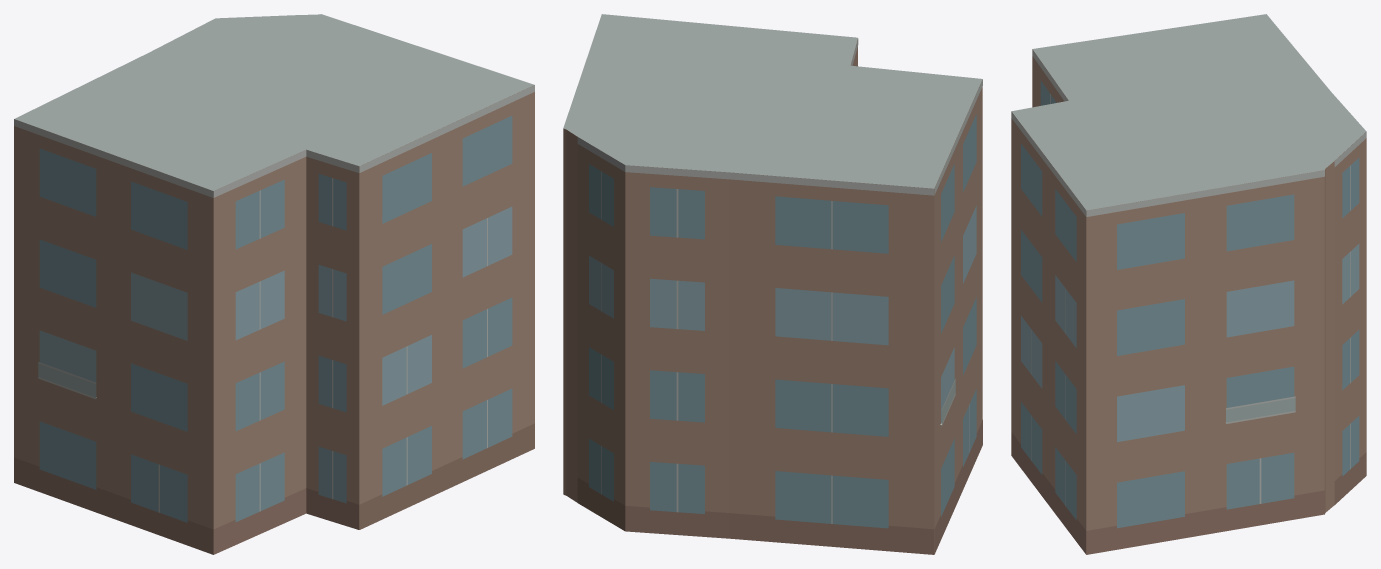
The model's file is survey-upis-32761138.glb.
3 renders of one model, left to right at view 1: azimuth 30°, elevation 25°; view 2: azimuth 150°, elevation 25°; view 3: azimuth 270°, elevation 25°, orthographic. The views are drawn at different scales.
Visible parts, largest first — view 1: survey-upis-32761138.tmp; view 2: survey-upis-32761138.tmp; view 3: survey-upis-32761138.tmp.
Part boxes in pixels (x1,y1,x2,y2): survey-upis-32761138.tmp: (14, 14, 534, 554); survey-upis-32761138.tmp: (563, 14, 982, 554); survey-upis-32761138.tmp: (1011, 14, 1366, 554).
Size of the model in its own units: 15.68 by 12.8 by 11.98.
